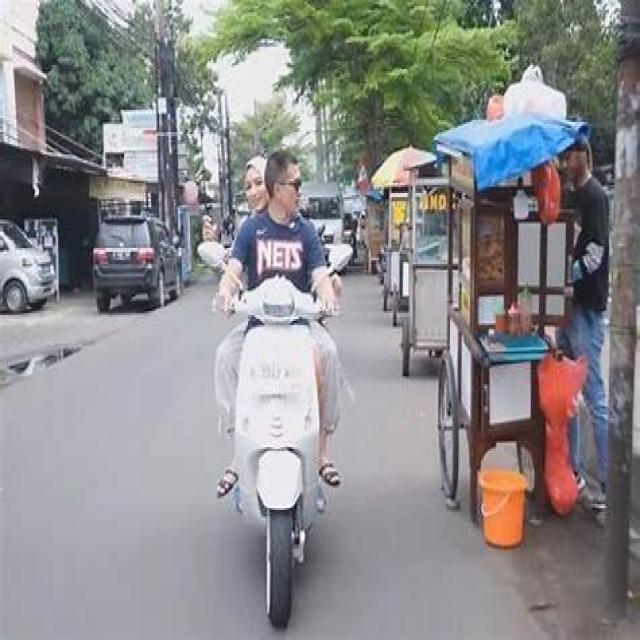Without Helmet: (266, 153, 304, 222)
